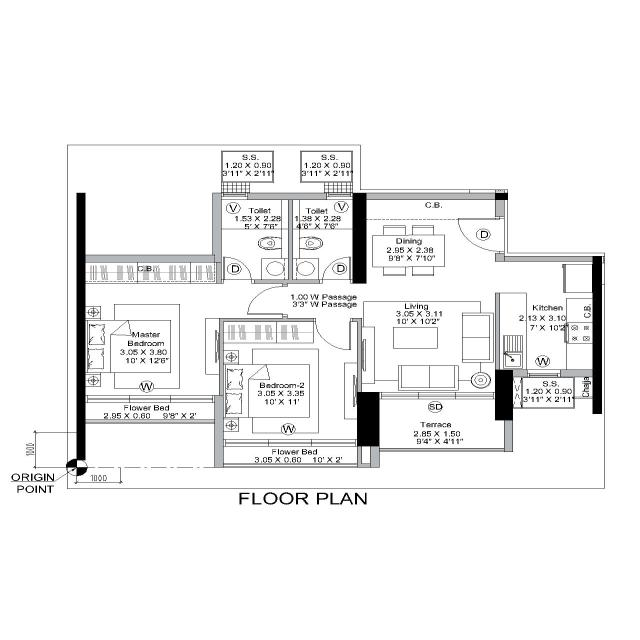Column: (75, 191, 87, 464), (591, 254, 603, 416), (350, 191, 370, 285), (353, 390, 382, 448), (494, 367, 516, 423)
Door: (493, 213, 507, 256), (312, 316, 354, 324), (218, 276, 254, 285), (318, 277, 354, 285), (280, 282, 288, 318)
Opening: (494, 260, 502, 296)
Sliding Door: (377, 391, 499, 400)
Ventilator: (219, 192, 250, 201), (325, 192, 355, 201)
Window: (221, 437, 361, 448), (83, 394, 217, 404), (524, 368, 562, 379)
